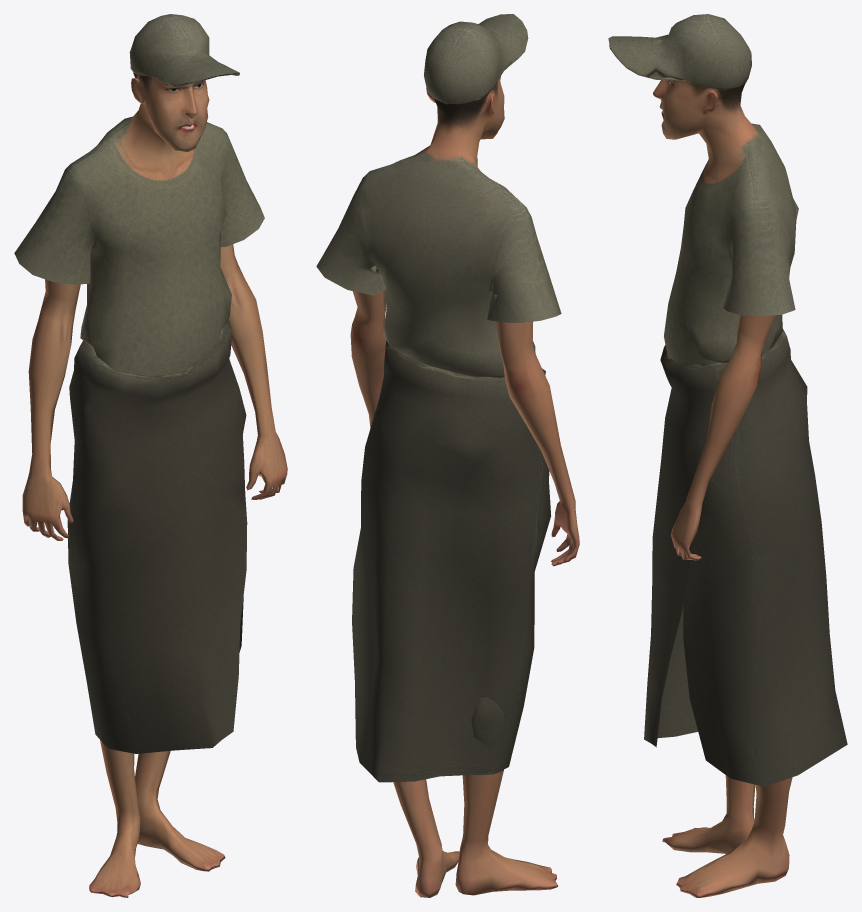
Rendered from fisherman.glb.
The picture shows the model from 3 angles, left to right: view 1: azimuth 30°, elevation 25°; view 2: azimuth 150°, elevation 25°; view 3: azimuth 270°, elevation 25°; orthographic projection.
Size of the model in its own units: 0.5056 by 1.65 by 0.4184.
Materials: 1 (1 with a texture image).
